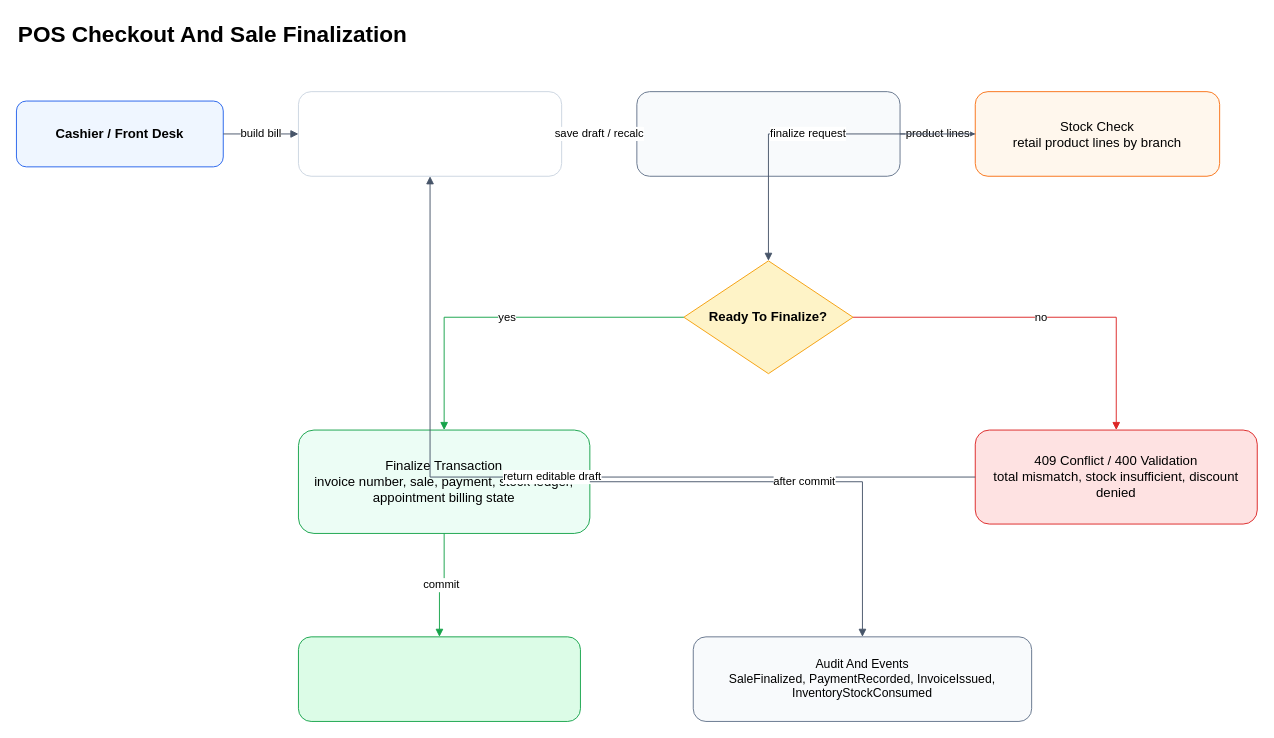
This 1274x738 diagram has some shape labels left out. The centre of each missing label's shape, as x and y in pixels:
"Invoice Issued immutable legal, tax, line, payment snapshots" belongs at [439,678].
"Sale Draft customer, appointment, service lines, product lines" belongs at [430,133].
"Server Recalculation price, discount, tax, payable total" belongs at [768,133].
